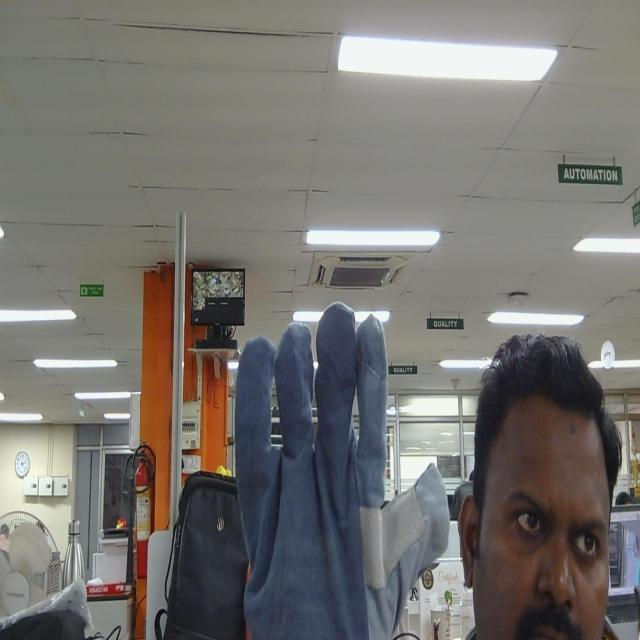Gloves-Detection: (230, 302, 451, 640)
